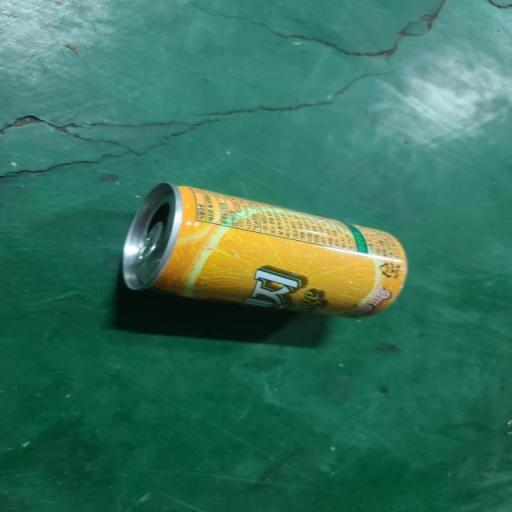metal: (101, 174, 440, 331)
